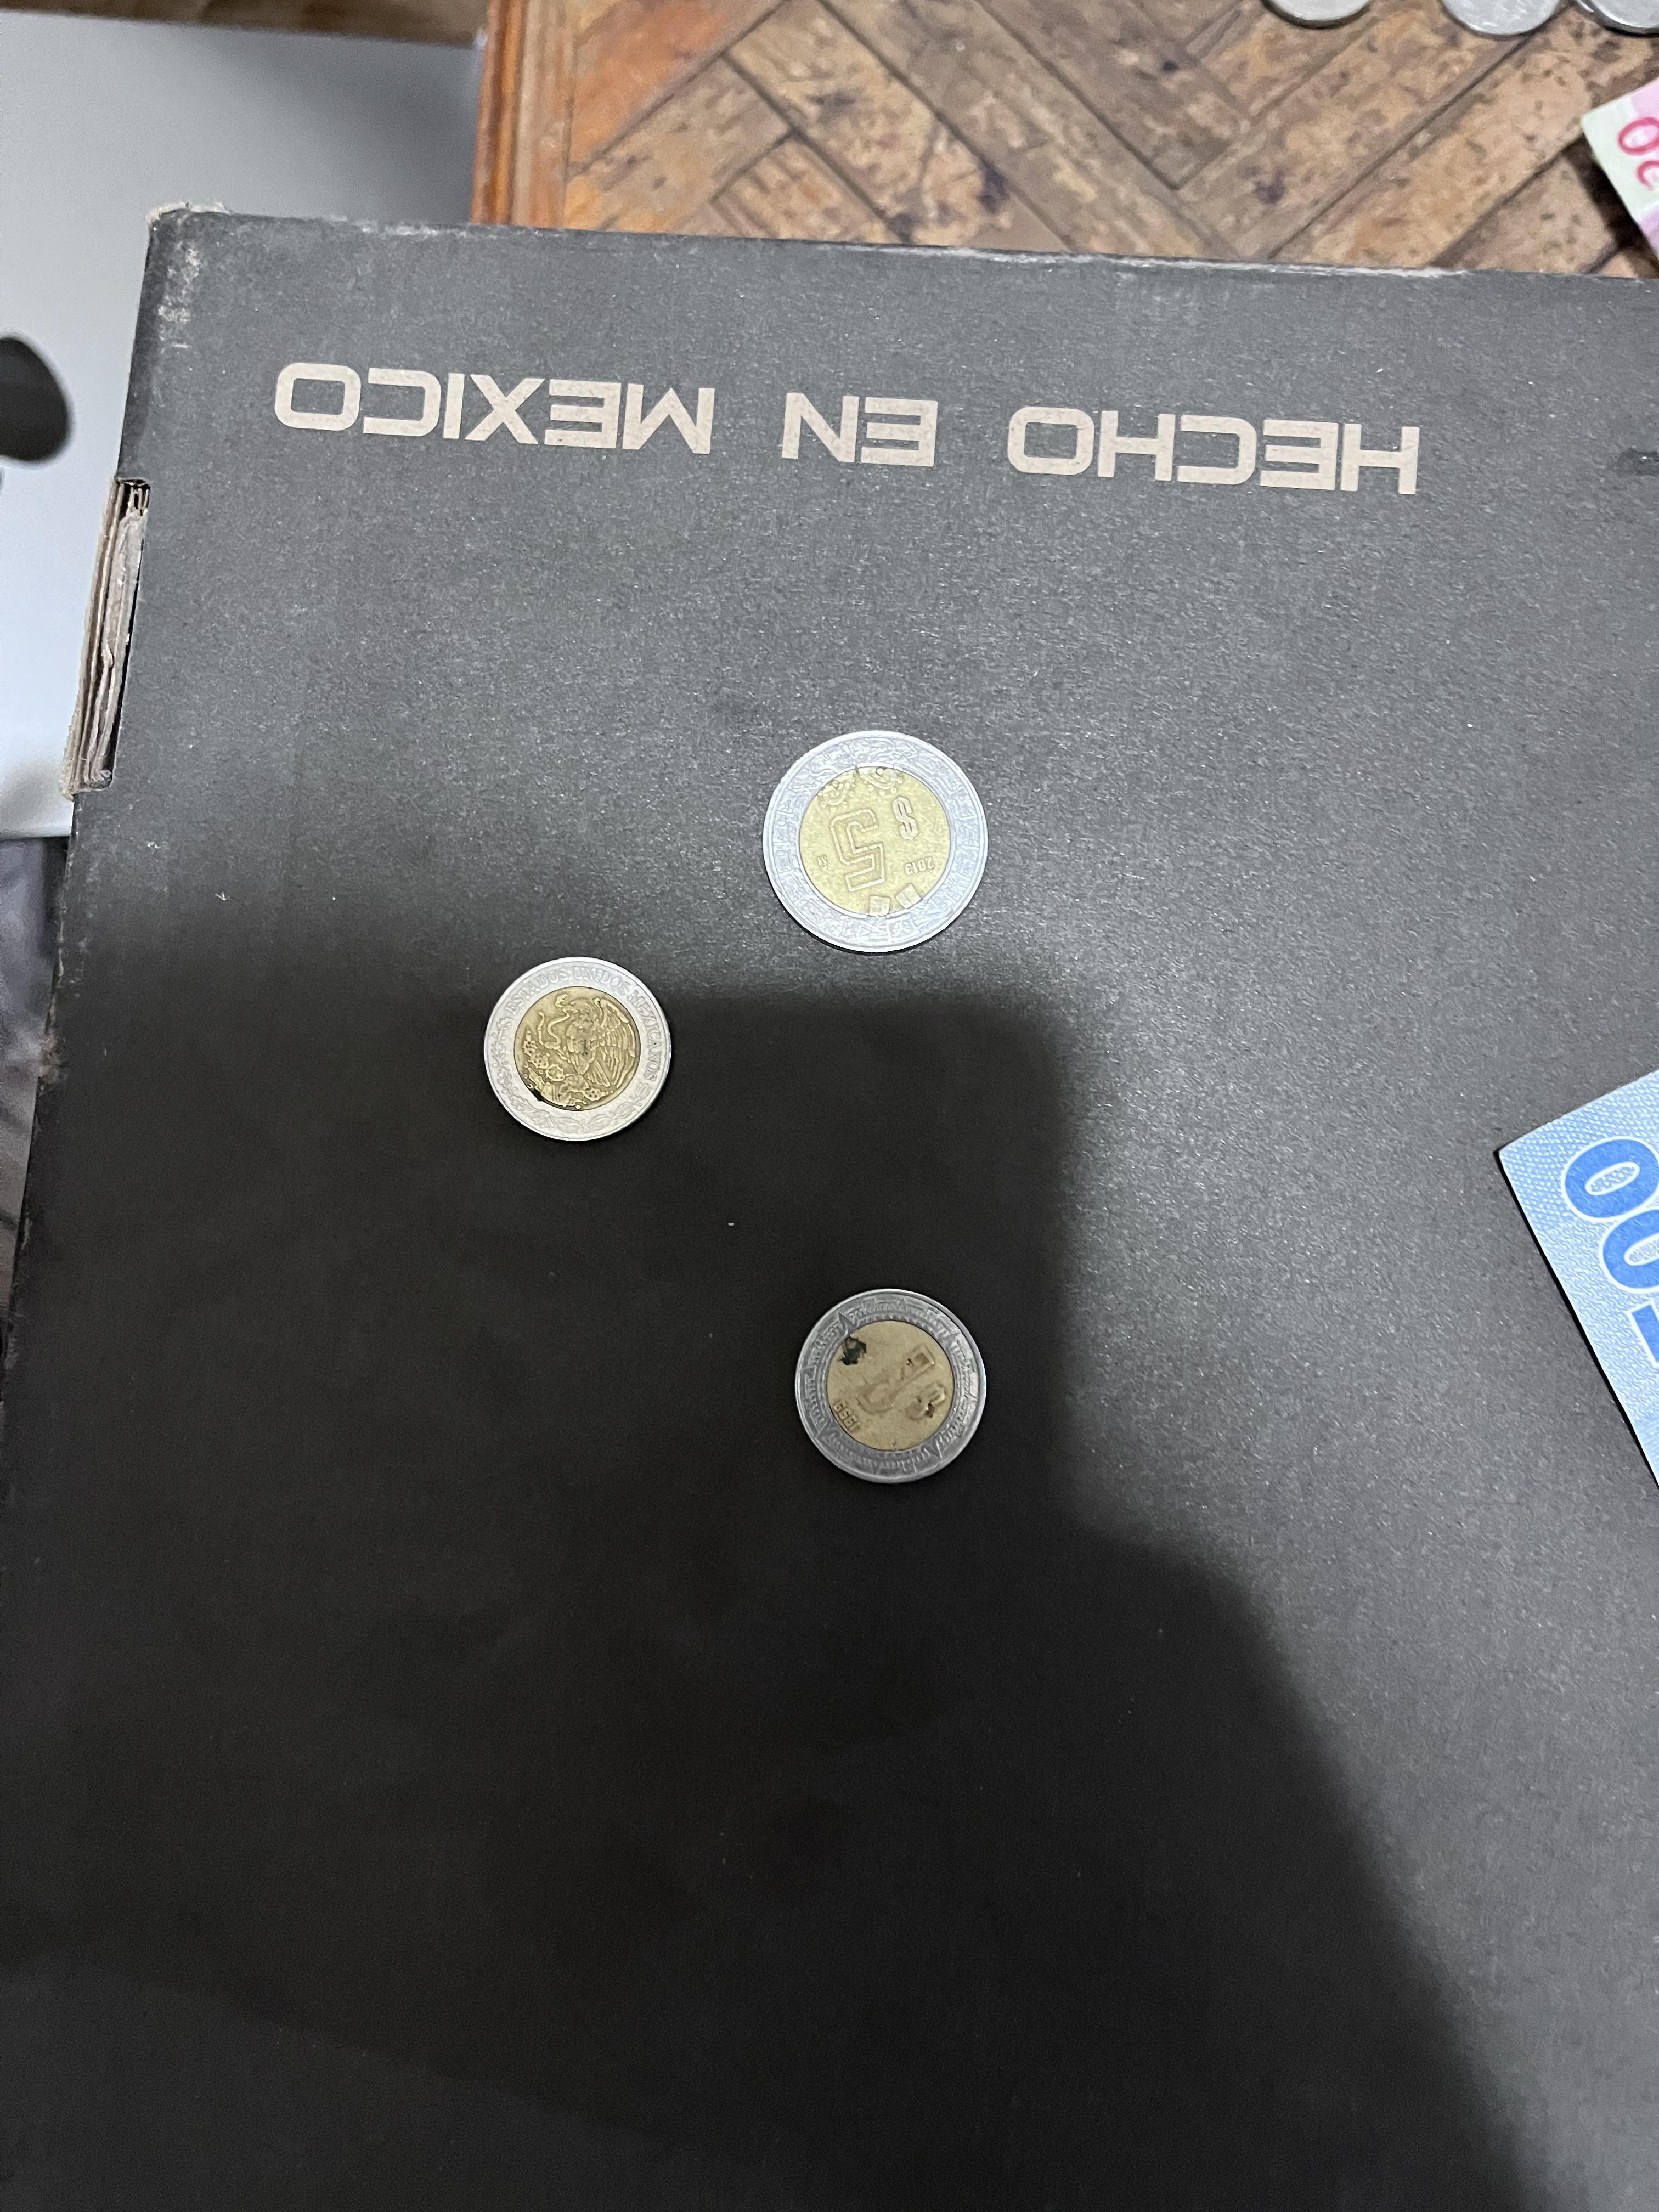1: (782, 1275, 1028, 1501), (467, 932, 704, 1162)
5: (730, 698, 1011, 974)
500 nuevo: (1497, 1022, 1659, 1517)
